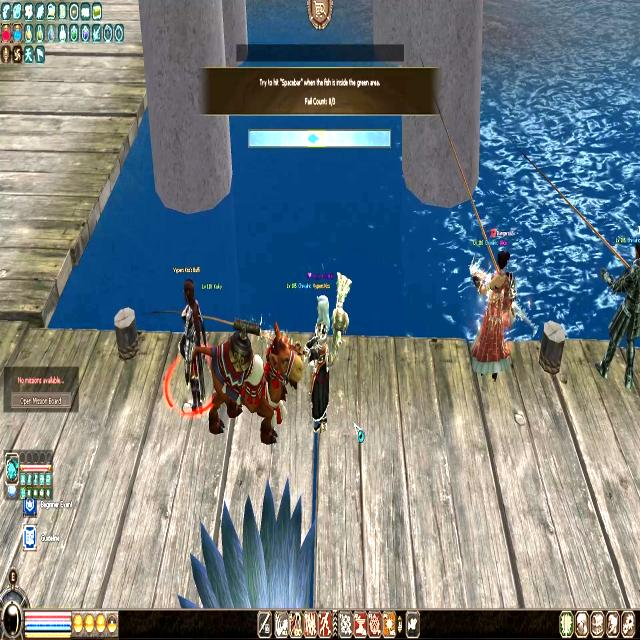fishes: (307, 130, 323, 147)
